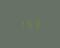eight: (33, 19, 39, 27)
five: (26, 20, 32, 27)
one: (18, 20, 24, 28)
